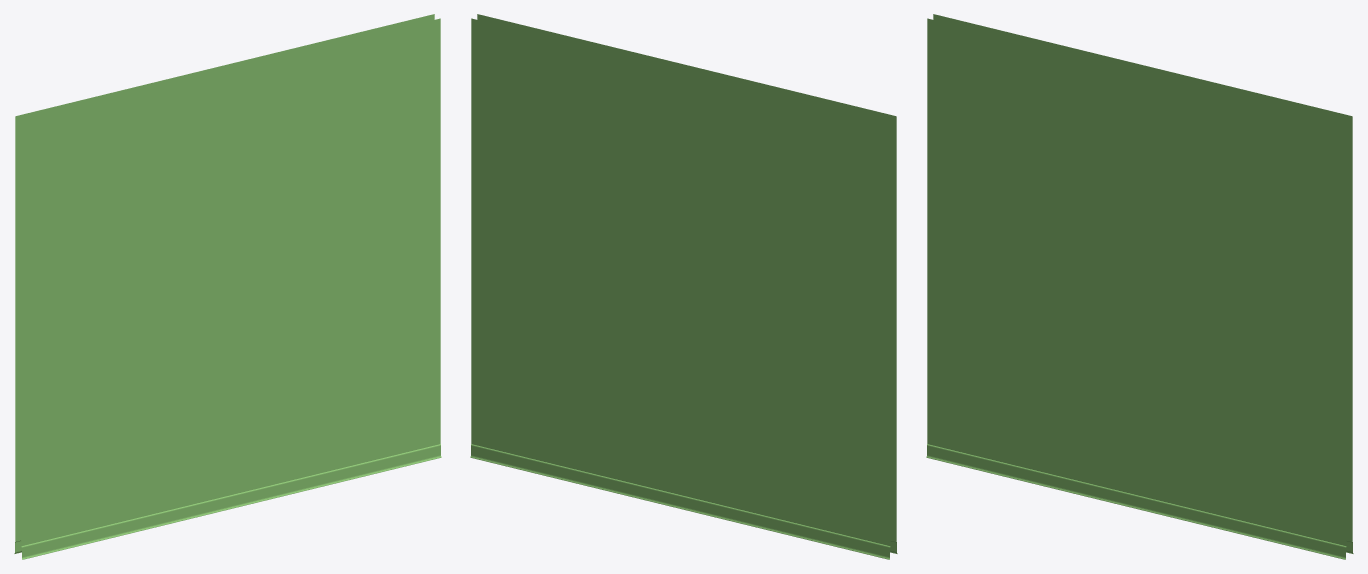
Rendered from SM_Wall_04.fbx.
3 renders of one model, left to right at view 1: azimuth 30°, elevation 25°; view 2: azimuth 150°, elevation 25°; view 3: azimuth 330°, elevation 25°, orthographic.
Visible parts, largest first — view 1: SM_Wall_04; view 2: SM_Wall_04; view 3: SM_Wall_04.
Part boxes in pixels (bbox=[...]): SM_Wall_04: bbox=[14, 14, 441, 559]; SM_Wall_04: bbox=[470, 14, 897, 559]; SM_Wall_04: bbox=[926, 14, 1353, 559].
Size of the model in its own units: 400 by 13 by 400.
